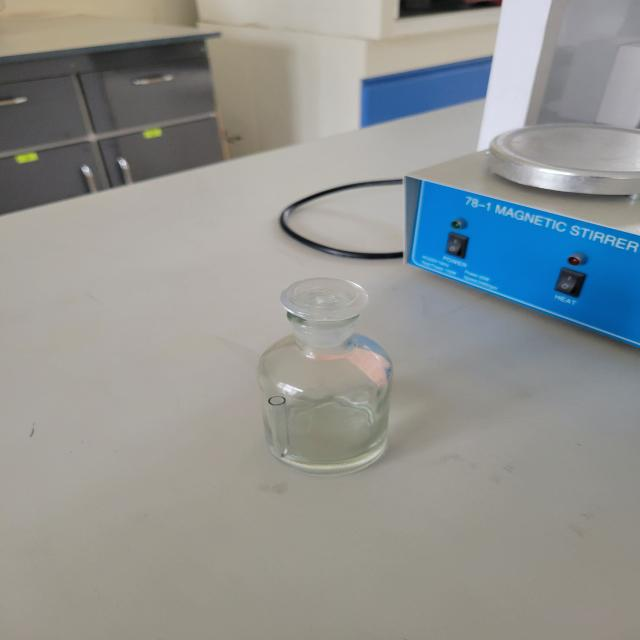Reagent_Bottle: (229, 250, 421, 499)
